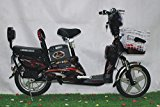电动车: (5, 6, 154, 100)
